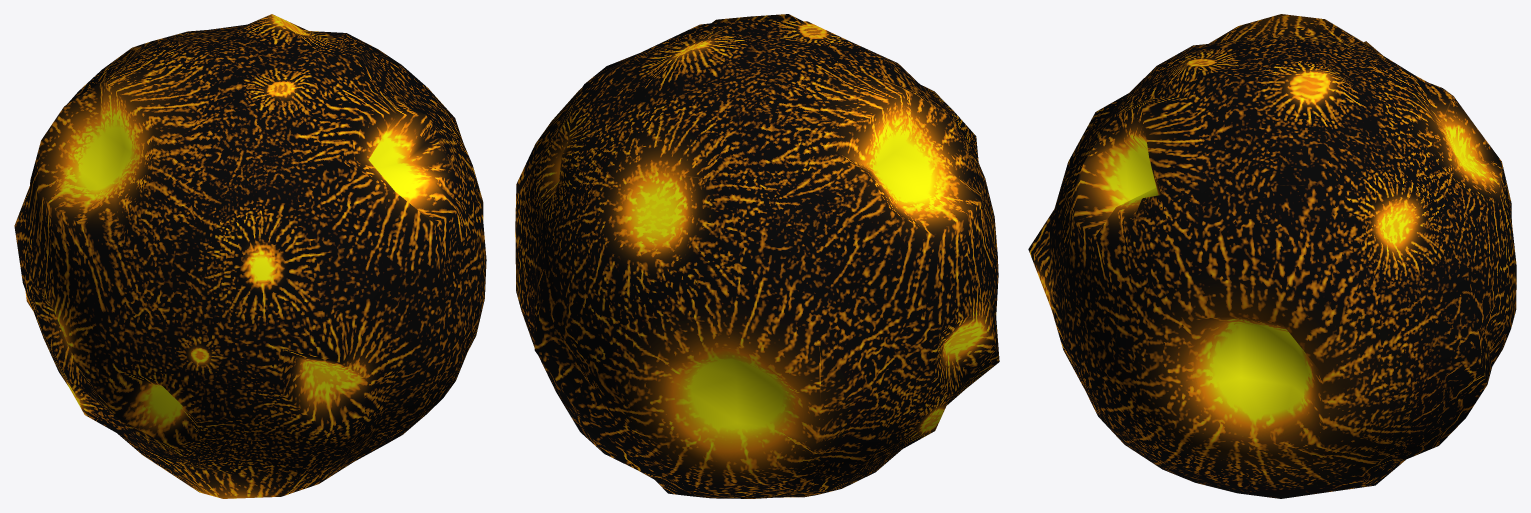
File: Lavamoom.fbx
3 renders of one model, left to right at view 1: azimuth 30°, elevation 25°; view 2: azimuth 150°, elevation 25°; view 3: azimuth 270°, elevation 25°, orthographic. The views are drawn at different scales.
Parts seen in each view (by area): view 1: SM_lavamoon; view 2: SM_lavamoon; view 3: SM_lavamoon.
Boxes of the visible parts, x1,y1,x2,y2 form: SM_lavamoon: (14,14,486,498); SM_lavamoon: (515,14,999,498); SM_lavamoon: (1028,14,1516,498).
Size of the model in its own units: 12.32 by 12.41 by 12.09.
1 material, 1 textured.
